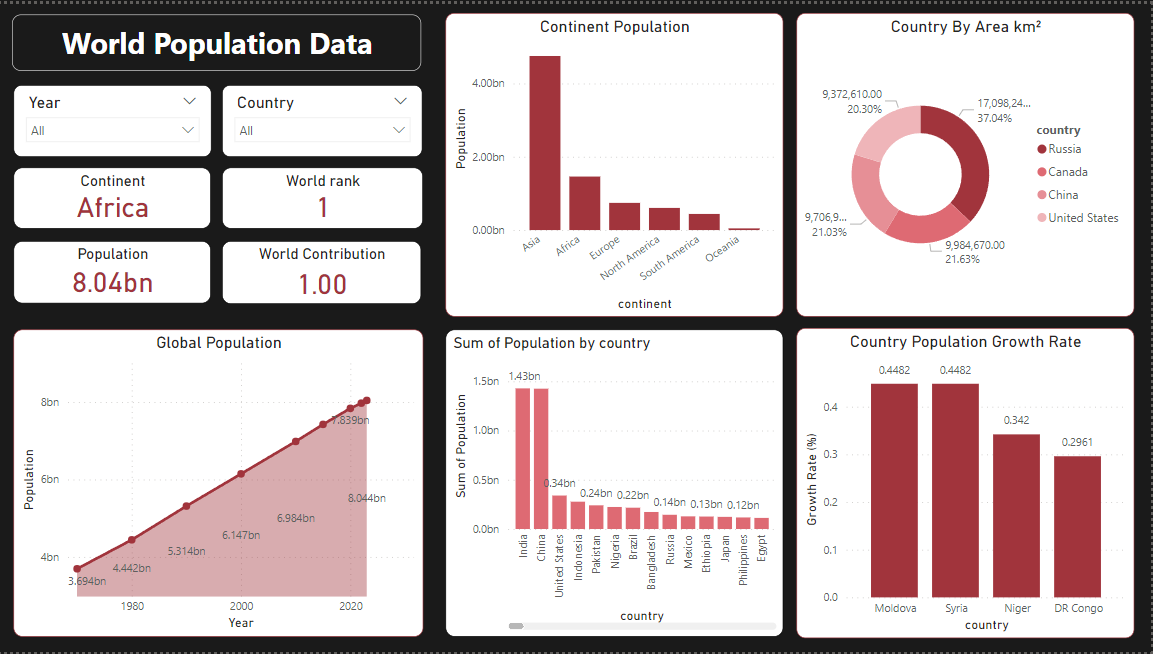

The dashboard page shown, as its layout file describes it:
{"tool":"powerbi","page":{"name":"World Population","canvas":[1280,720],"ordinal":0},"visuals":[{"type":"donutChart","title":"Country By Area km²","fields":{"Y":["Avg(world_population_data.area (km²))"],"Category":["world_population_data.country"],"Series":["world_population_data.area (km²)"]},"box":[885.7,10.7,375,337.5],"z":0},{"type":"lineClusteredColumnComboChart","title":"Country Population Growth Rate","fields":{"Category":["world_population_data.country"],"Y":["Sum(world_population_data.growth rate)"]},"box":[885.7,360.7,375,344.6],"z":1000},{"type":"slicer","fields":{"Values":["world_population_data.country"]},"box":[246.7,89.3,222.7,80],"z":3000},{"type":"card","title":"Continent","fields":{"Values":["Min(world_population_data.continent)"]},"box":[14.3,182.1,219.6,67.9],"z":4000},{"type":"textbox","box":[14.1,10.9,454.7,62.5],"z":5000},{"type":"clusteredColumnChart","title":"Continent Population","fields":{"Category":["world_population_data.continent"],"Y":["Sum(world_population_data.Population)"]},"box":[494.6,10.7,375,337.5],"z":6000},{"type":"slicer","fields":{"Values":["world_population_data.Year"]},"box":[14.7,89.3,220,80],"z":7000},{"type":"card","title":"World rank","fields":{"Values":["Min(world_population_data.Rank Text)"]},"box":[246.4,182.1,223.2,67.9],"z":8000},{"type":"card","title":"Population","fields":{"Values":["Sum(world_population_data.Population)"]},"box":[14.3,262.5,219.6,69.6],"z":9000},{"type":"stackedAreaChart","title":"Global Population","fields":{"Category":["world_population_data.Year"],"Y":["Sum(world_population_data.Population)"]},"box":[14.3,362.5,455.4,341.1],"z":10000},{"type":"card","title":"World Contribution","fields":{"Values":["Sum(world_population_data.world percentage)"]},"box":[247,262.9,221.1,69.7],"z":11000},{"type":"clusteredColumnChart","fields":{"Y":["Sum(world_population_data.Population)"],"Category":["world_population_data.country"]},"box":[495,362,375,341],"z":11001}]}

Visuals, with their boxes in screenshot pixels (x1, y1, x2, y2), scaled from the page's 1280x720 canvas onto the 1153x654 screenshot:
"Country By Area km²" donutChart: (left=798, top=10, right=1136, bottom=316)
"Country Population Growth Rate" lineClusteredColumnComboChart: (left=798, top=328, right=1136, bottom=641)
slicer - world_population_data.country: (left=222, top=81, right=423, bottom=154)
"Continent" card: (left=13, top=165, right=211, bottom=227)
textbox: (left=13, top=10, right=422, bottom=67)
"Continent Population" clusteredColumnChart: (left=446, top=10, right=783, bottom=316)
slicer - world_population_data.Year: (left=13, top=81, right=211, bottom=154)
"World rank" card: (left=222, top=165, right=423, bottom=227)
"Population" card: (left=13, top=238, right=211, bottom=302)
"Global Population" stackedAreaChart: (left=13, top=329, right=423, bottom=639)
"World Contribution" card: (left=222, top=239, right=422, bottom=302)
clusteredColumnChart - Sum(world_population_data.Population) x world_population_data.country: (left=446, top=329, right=784, bottom=639)
